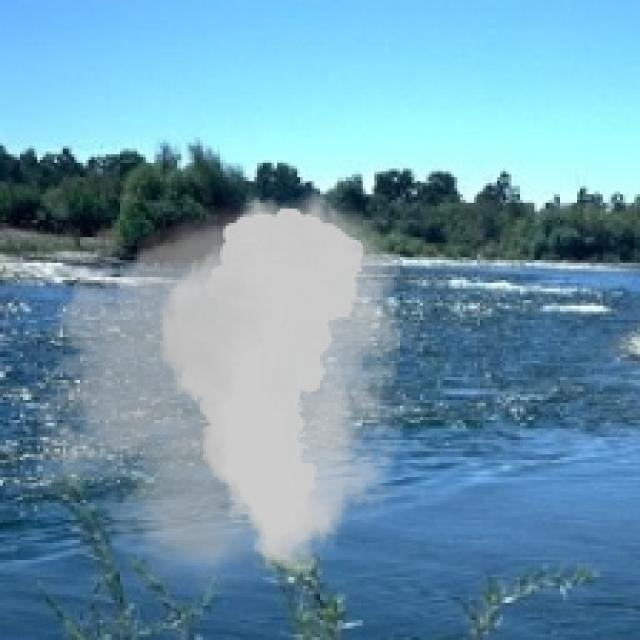Smoke: (8, 180, 434, 597)
